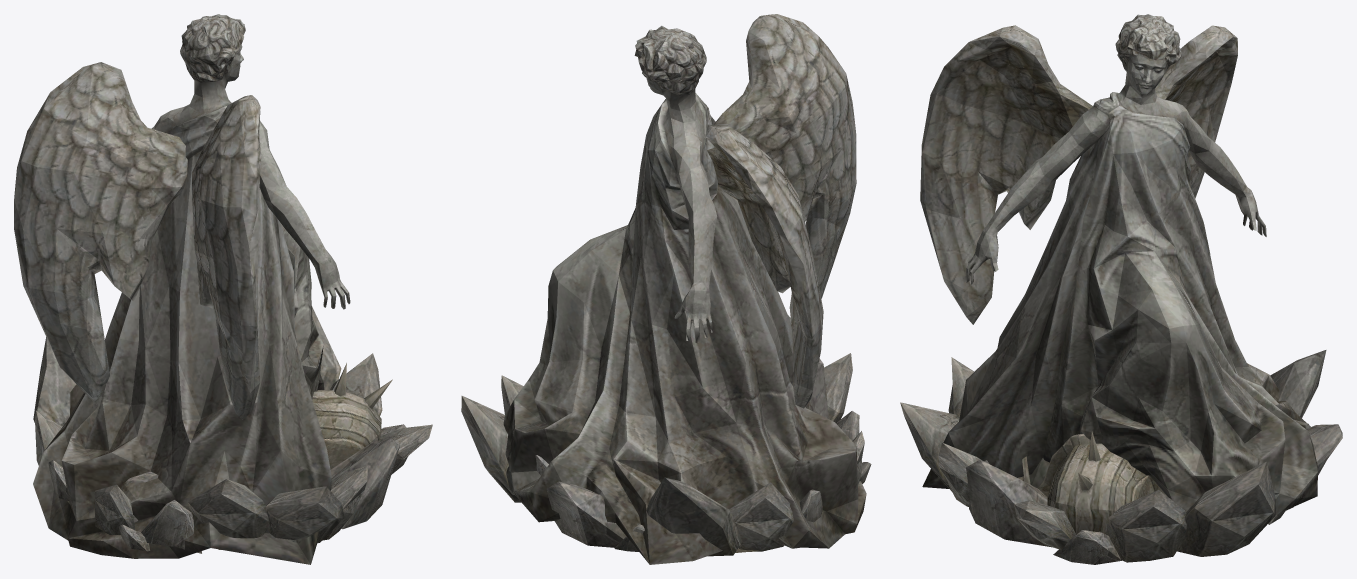
File: bg_lut_lucastle_herostatue01_sm_artree.FBX
The picture shows the model from 3 angles, left to right: view 1: azimuth 30°, elevation 25°; view 2: azimuth 150°, elevation 25°; view 3: azimuth 270°, elevation 25°; orthographic projection. The views are drawn at different scales.
Visible parts, largest first — view 1: bg_lut_lucastle_herostatue01_sm_artree; view 2: bg_lut_lucastle_herostatue01_sm_artree; view 3: bg_lut_lucastle_herostatue01_sm_artree.
Part boxes in pixels (x1,y1,x2,y2): bg_lut_lucastle_herostatue01_sm_artree: [14, 14, 432, 564]; bg_lut_lucastle_herostatue01_sm_artree: [461, 14, 871, 564]; bg_lut_lucastle_herostatue01_sm_artree: [900, 14, 1342, 564].
Bounding box in the file's own units: 232 × 314 × 259.
